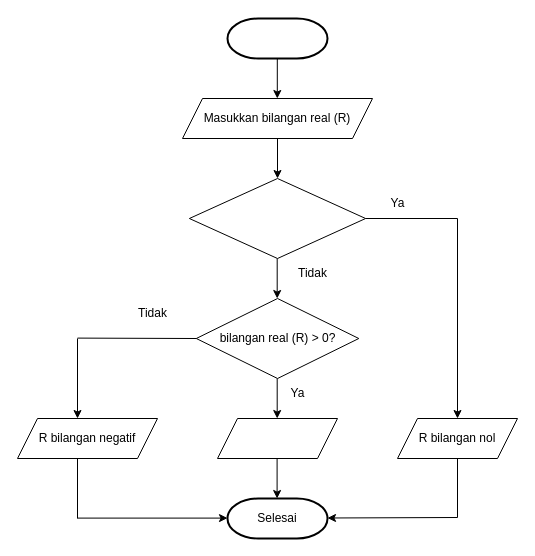
Some shapes in this 535 by 556 pixel diagram are drawn without their labels. The centre of each missing label's shape, as x and y in pixels:
bilangan real (R) =0 ?: (x=277, y=218)
Mulai: (x=277, y=38)
R bilangan positif: (x=277, y=438)
